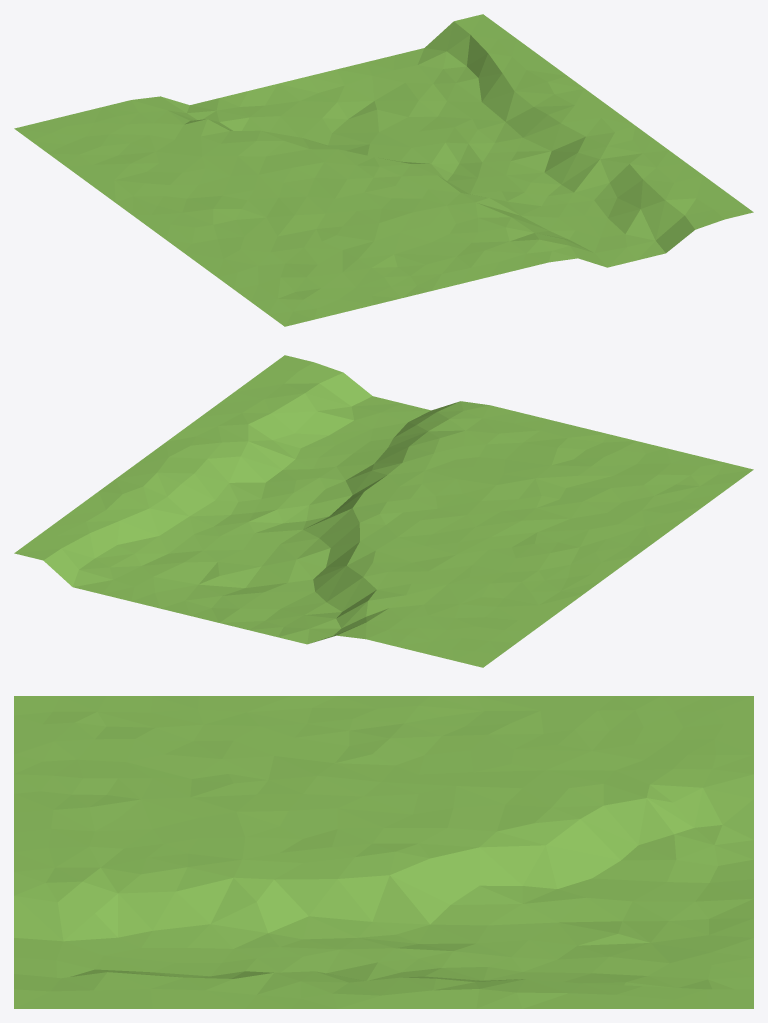
File: MT_River_End_M_b_01_R_LOD.fbx
3 views of the same model, one above another, from view 1: azimuth 30°, elevation 25°; view 2: azimuth 150°, elevation 25°; view 3: azimuth 270°, elevation 25° (orthographic). The views are drawn at different scales.
Parts seen in each view (by area): view 1: MT_River_End_M_b_01_R_LOD0; view 2: MT_River_End_M_b_01_R_LOD0; view 3: MT_River_End_M_b_01_R_LOD0.
Boxes of the visible parts, box(x1,y1,x2,y2) form: MT_River_End_M_b_01_R_LOD0: box(14, 14, 753, 326); MT_River_End_M_b_01_R_LOD0: box(14, 355, 753, 667); MT_River_End_M_b_01_R_LOD0: box(14, 696, 753, 1008).
Size of what is drawn, in the model's own units: 50 by 2.69 by 50.
